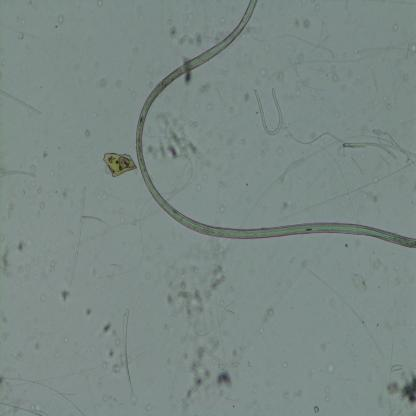Background material: (161, 256, 229, 327), (184, 338, 236, 402), (147, 112, 198, 158), (386, 363, 416, 415), (0, 372, 28, 414), (102, 320, 121, 373), (103, 150, 138, 178), (169, 23, 202, 48), (0, 241, 15, 279), (366, 63, 380, 95), (350, 271, 368, 293), (366, 252, 383, 271), (196, 79, 212, 98), (292, 386, 306, 400), (323, 383, 332, 403), (406, 41, 416, 58), (324, 362, 336, 375), (59, 288, 70, 301), (183, 71, 193, 84), (98, 77, 108, 90), (18, 235, 24, 256), (217, 203, 228, 214), (281, 358, 289, 370), (302, 17, 310, 29), (266, 306, 274, 318), (17, 31, 25, 41), (34, 341, 42, 351), (244, 91, 250, 104), (58, 16, 65, 27), (41, 148, 48, 159), (393, 22, 399, 34), (278, 70, 284, 82), (332, 72, 338, 84), (283, 391, 291, 400), (282, 201, 289, 211), (84, 309, 92, 317), (50, 259, 56, 269), (84, 128, 90, 137), (313, 405, 319, 414)
Glass filter fibre: (371, 125, 416, 163), (69, 187, 86, 285), (289, 123, 341, 150), (122, 308, 136, 408), (255, 88, 283, 135), (0, 88, 41, 116), (344, 140, 397, 159), (281, 155, 305, 183), (0, 168, 36, 182), (310, 33, 332, 52), (215, 87, 224, 103)
Microfibre: (135, 0, 416, 252)
